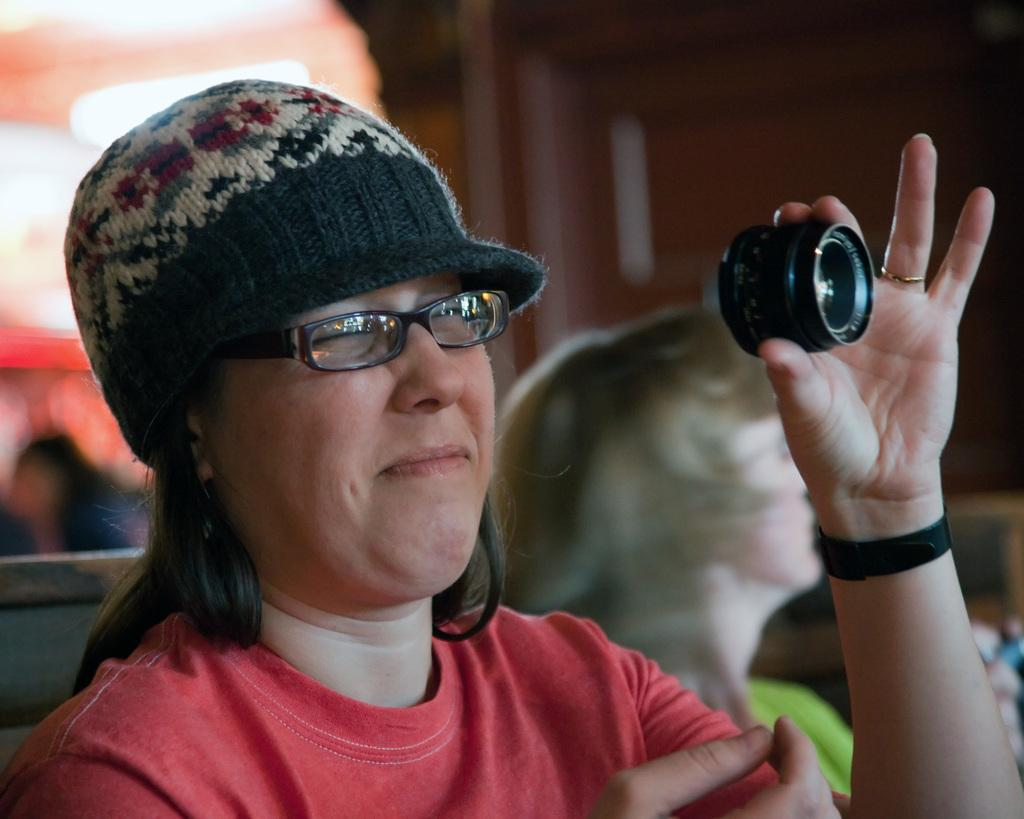Hat: (60, 73, 550, 482)
